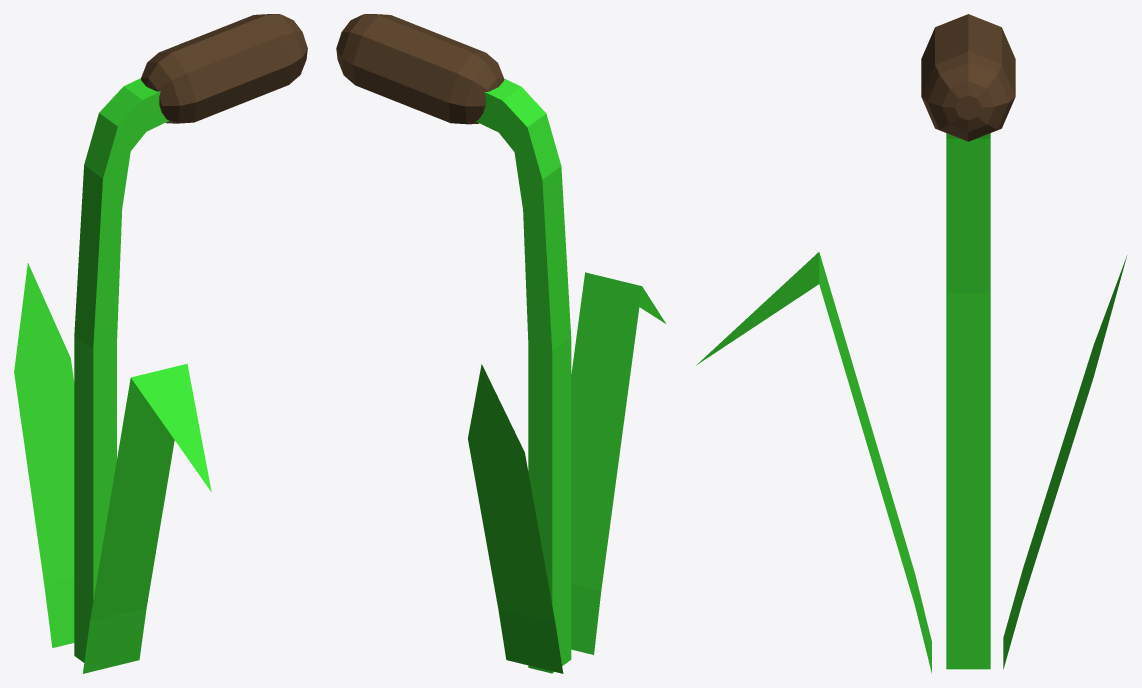
File: CatTail.glb
3 views of the same model, side by side, from view 1: azimuth 30°, elevation 25°; view 2: azimuth 150°, elevation 25°; view 3: azimuth 270°, elevation 25° (orthographic). The views are drawn at different scales.
Parts seen in each view (by area): view 1: Plane, Cube, Cylinder; view 2: Plane, Cube, Cylinder; view 3: Cube, Plane, Cylinder.
Part boxes in pixels (<box>): Plane: <box>14,263,211,673</box>; Cube: <box>74,78,168,662</box>; Cylinder: <box>141,14,307,123</box>; Plane: <box>468,272,665,673</box>; Cube: <box>476,78,571,673</box>; Cylinder: <box>336,14,504,124</box>; Cube: <box>946,133,990,669</box>; Plane: <box>696,252,1127,673</box>; Cylinder: <box>921,14,1015,141</box>.
Size of the model in its own units: 8.26 by 20.31 by 11.23.
